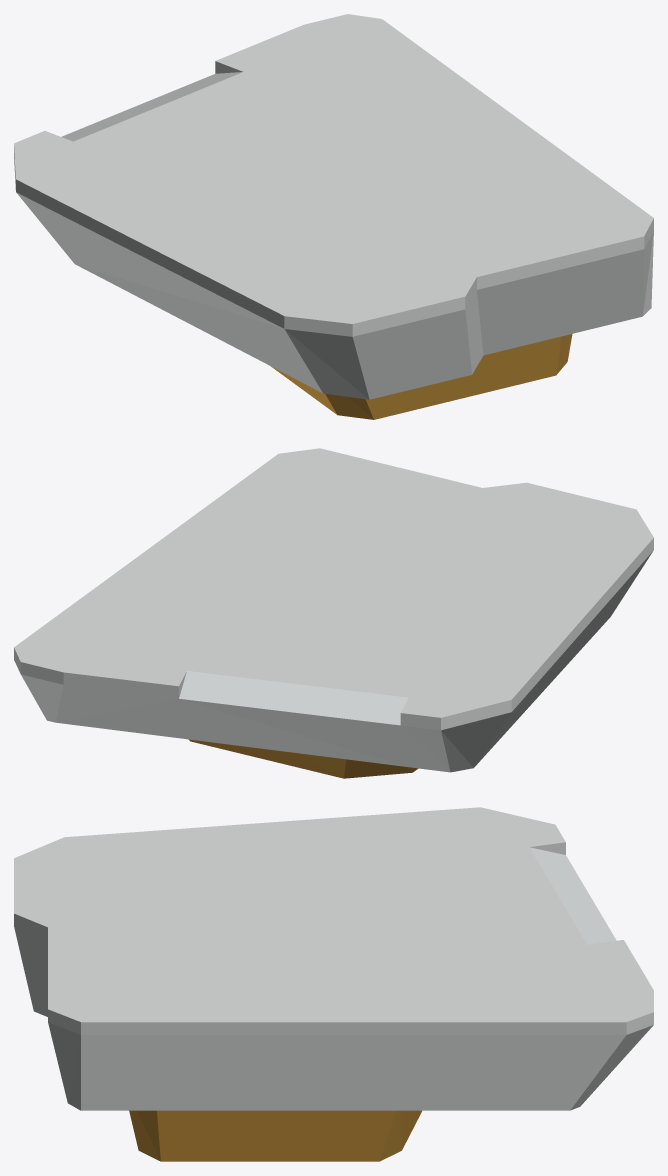
The model's file is rx78_object_085-lib.dae.
The picture shows the model from 3 angles, top to bottom: view 1: azimuth 30°, elevation 25°; view 2: azimuth 150°, elevation 25°; view 3: azimuth 270°, elevation 25°; orthographic projection. The views are drawn at different scales.
Visible parts, largest first — view 1: rx78_object_085Mesh-node; view 2: rx78_object_085Mesh-node; view 3: rx78_object_085Mesh-node.
Boxes of the visible parts, x1,y1,x2,y2 form: rx78_object_085Mesh-node: (14,14,653,419); rx78_object_085Mesh-node: (14,448,653,778); rx78_object_085Mesh-node: (14,807,653,1161).
Size of the model in its own units: 17.96 by 6.32 by 22.6.
